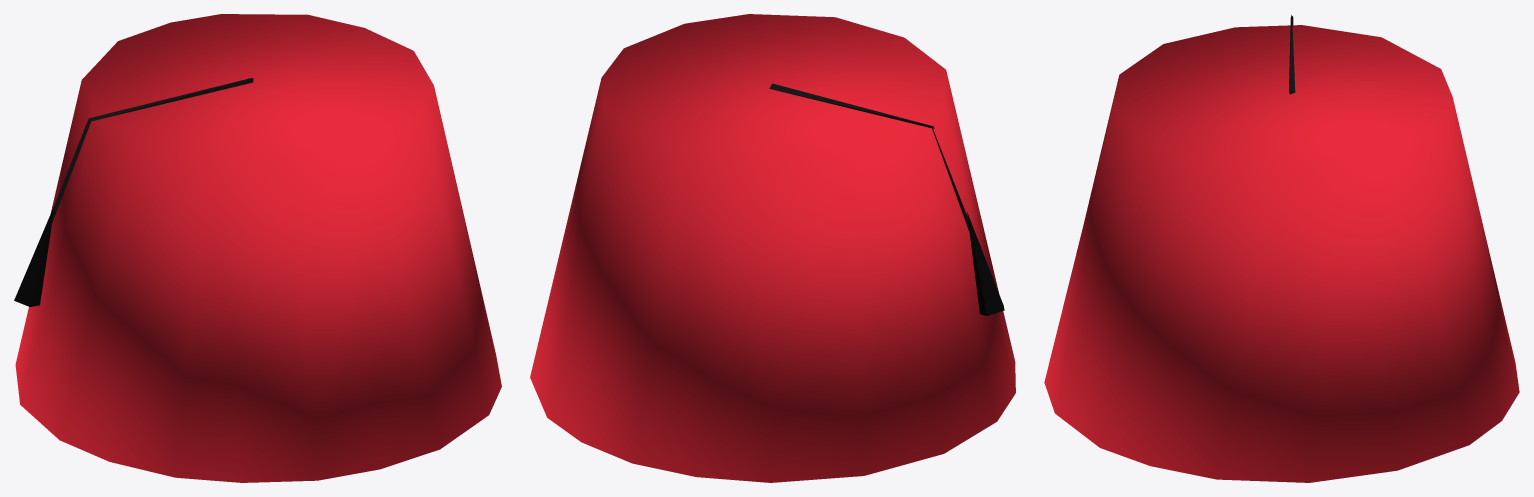
Rendered from Statue Accesory.fbx.
3 views of the same model, side by side, from view 1: azimuth 30°, elevation 25°; view 2: azimuth 150°, elevation 25°; view 3: azimuth 270°, elevation 25° (orthographic). The views are drawn at different scales.
Parts seen in each view (by area): view 1: Cylinder; view 2: Cylinder; view 3: Cylinder.
Part boxes in pixels (box(x1,y1,x2,y2)): Cylinder: box(14, 14, 501, 482); Cylinder: box(530, 14, 1015, 482); Cylinder: box(1044, 15, 1519, 482).
Bounding box in the file's own units: 521 × 333 × 491.
